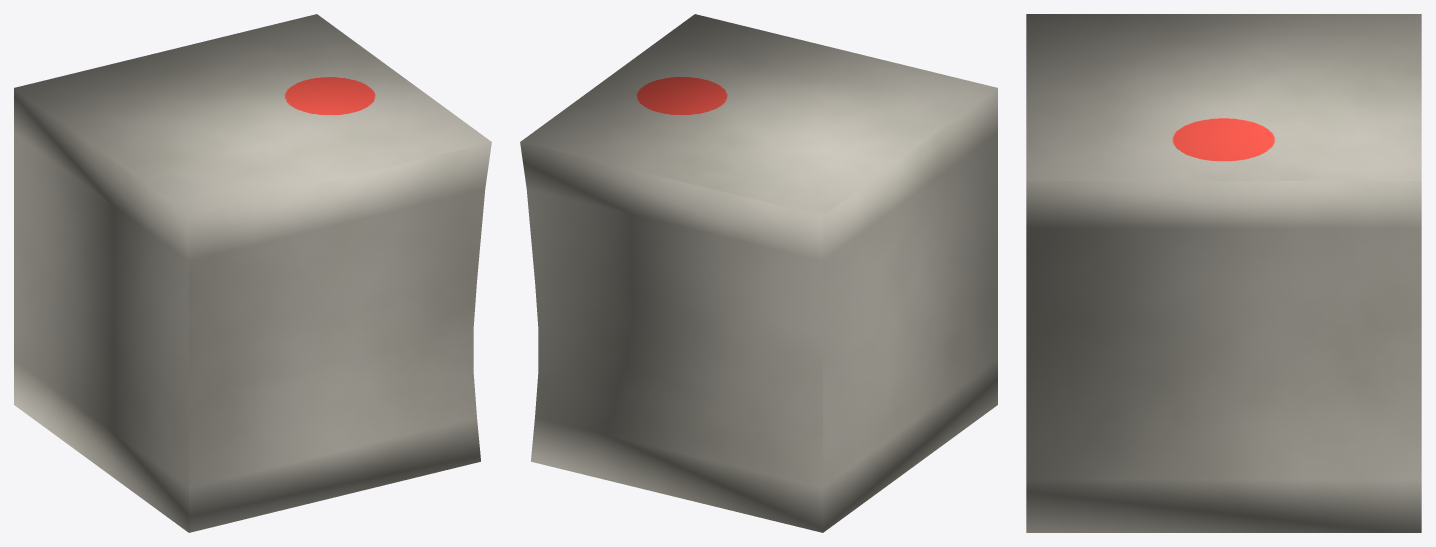
Rendered from PowerSwitch.fbx.
The picture shows the model from 3 angles, left to right: view 1: azimuth 30°, elevation 25°; view 2: azimuth 150°, elevation 25°; view 3: azimuth 270°, elevation 25°; orthographic projection. The views are drawn at different scales.
Parts seen in each view (by area): view 1: Switch3; view 2: Switch3; view 3: Switch3.
Part boxes in pixels (left/top/right/bottom): Switch3: left=14, top=14, right=491, bottom=532; Switch3: left=520, top=14, right=997, bottom=532; Switch3: left=1026, top=14, right=1421, bottom=532.
Size of the model in its own units: 200 by 200 by 200.
